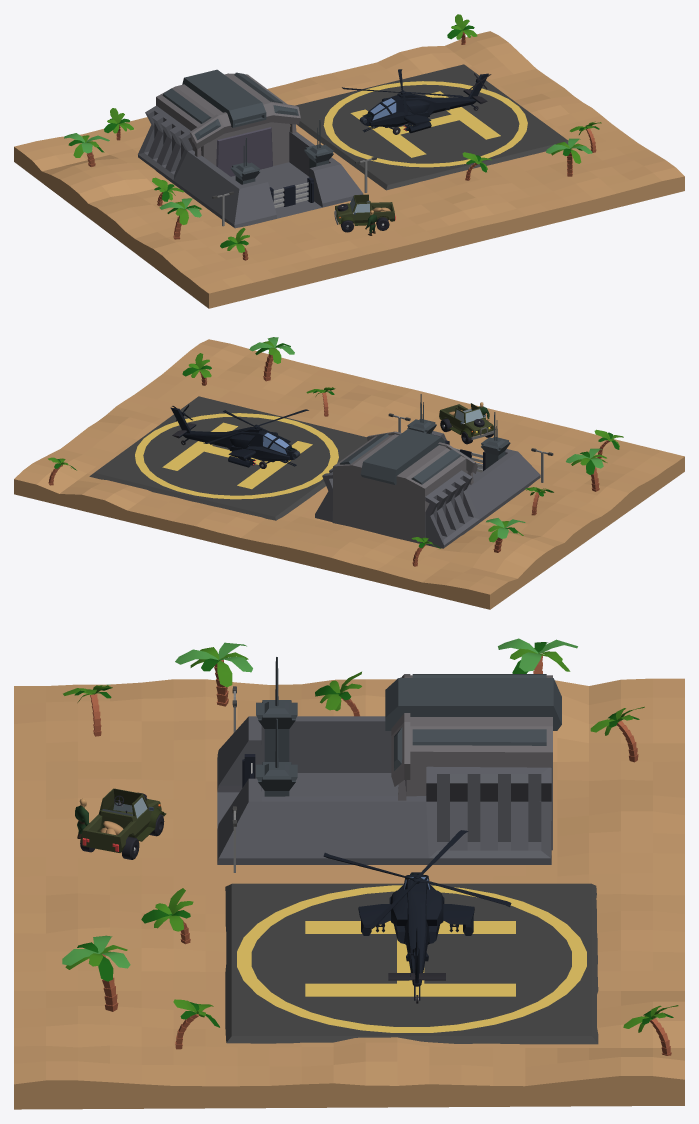
Rendered from milbase.glb.
3 views of the same model, one above another, from view 1: azimuth 30°, elevation 25°; view 2: azimuth 150°, elevation 25°; view 3: azimuth 270°, elevation 25° (orthographic). The views are drawn at different scales.
Parts seen in each view (by area): view 1: Plane, Plane.116, house_gate, house_base, main top, Cube.196, Circle.002, Text.001, Plane.095, Cube.234, gate, palm_stvol_01.001 (+7 smaller); view 2: Plane, Plane.116, house_base, house_gate, main top, Circle.002, Cube.196, Text.001, Cube.234, jeap_body.001, palm_stvol_01.002, palm_stvol_01.001 (+3 smaller); view 3: Plane, Plane.116, house_gate, Cube.196, Circle.002, house_base, main top, Text.001, Cube.234, jeap_body.001, palm_stvol_01.002, Cube.198 (+10 smaller).
Part boxes in pixels (x1=…): Plane: x1=14, y1=31, x2=684, y2=308; Plane.116: x1=295, y1=64, x2=568, y2=190; house_gate: x1=138, y1=105, x2=363, y2=228; house_base: x1=156, y1=73, x2=289, y2=176; main top: x1=342, y1=69, x2=491, y2=134; Cube.196: x1=182, y1=69, x2=266, y2=127; Circle.002: x1=323, y1=81, x2=527, y2=167; Text.001: x1=350, y1=91, x2=500, y2=157; Plane.095: x1=189, y1=101, x2=300, y2=149; Cube.234: x1=162, y1=72, x2=282, y2=123; gate: x1=269, y1=177, x2=313, y2=208; palm_stvol_01.001: x1=159, y1=198, x2=201, y2=239; Plane: x1=14, y1=339, x2=684, y2=609; Plane.116: x1=89, y1=396, x2=367, y2=520; house_base: x1=332, y1=434, x2=467, y2=543; house_gate: x1=315, y1=431, x2=540, y2=548; main top: x1=170, y1=404, x2=308, y2=468; Circle.002: x1=135, y1=413, x2=338, y2=499; Cube.196: x1=360, y1=429, x2=445, y2=484; Text.001: x1=162, y1=422, x2=312, y2=489; Cube.234: x1=340, y1=433, x2=460, y2=484; jeap_body.001: x1=439, y1=404, x2=493, y2=436; palm_stvol_01.002: x1=249, y1=337, x2=294, y2=381; palm_stvol_01.001: x1=566, y1=448, x2=607, y2=491; Plane: x1=14, y1=678, x2=684, y2=1109; Plane.116: x1=225, y1=883, x2=598, y2=1044; house_gate: x1=217, y1=716, x2=551, y2=864; Cube.196: x1=385, y1=678, x2=561, y2=730; Circle.002: x1=237, y1=885, x2=586, y2=1032; house_base: x1=405, y1=675, x2=552, y2=850; main top: x1=323, y1=830, x2=511, y2=1003; Text.001: x1=305, y1=921, x2=515, y2=996; Cube.234: x1=412, y1=674, x2=546, y2=745; jeap_body.001: x1=81, y1=788, x2=161, y2=852; palm_stvol_01.002: x1=62, y1=935, x2=130, y2=1011; Cube.198: x1=256, y1=700, x2=297, y2=761.
Bounding box in the file's own units: 3729 × 655 × 2643.
